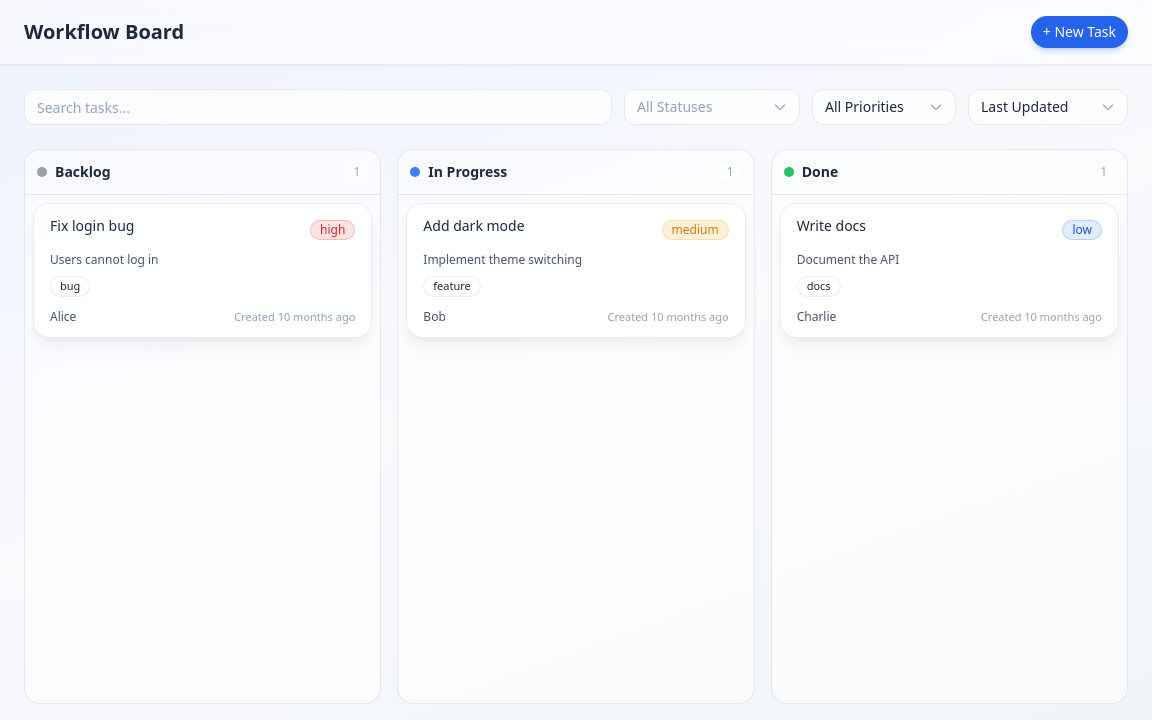
Scenario: Filter behavior › filters tasks by text search
Type "login" into the field with placeholder "Search tasks..." at (318, 107), box left=24, top=89, right=612, bottom=125
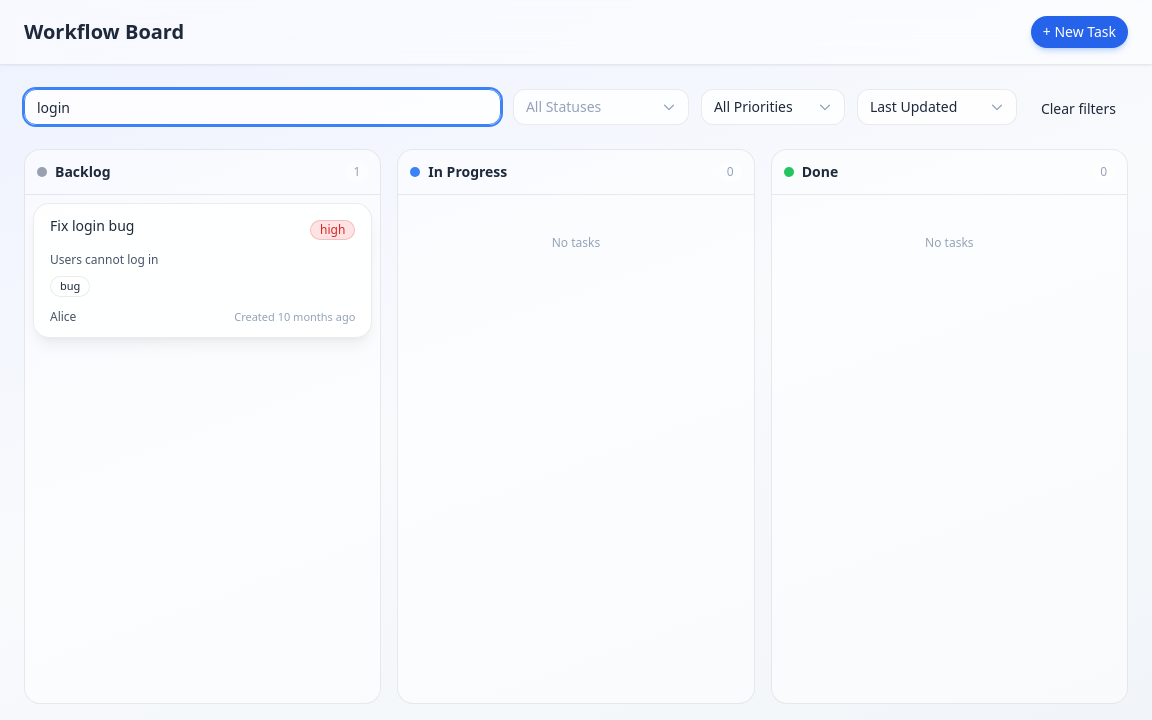
Expected: the heading "Fix login bug" is shown, left=50, top=216, right=134, bottom=236
Expected: the button "Add dark mode" is gone
Expected: the button "Write docs" is gone
